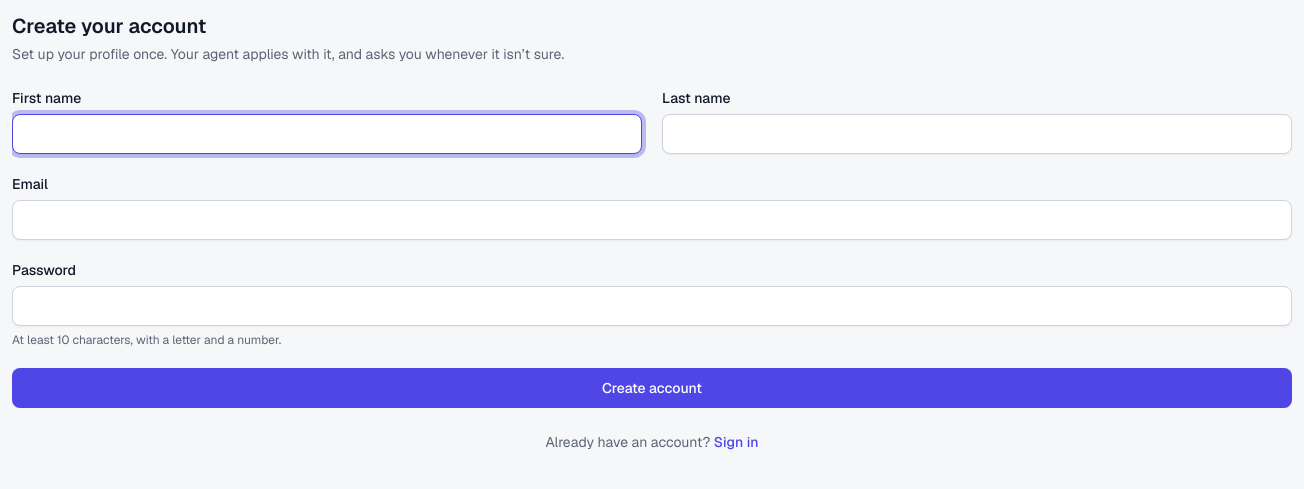
RegisterForm › shows a taken email on the email field
In the field labelled "First name": {"x": 327, "y": 134} [12,114,642,154], type "Ada"
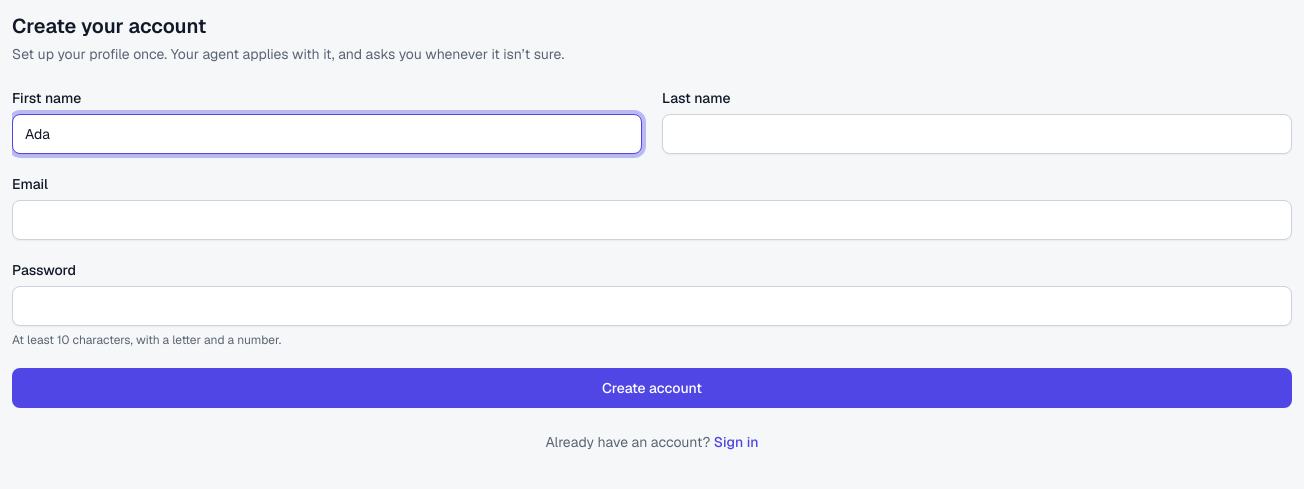
In the field labelled "Last name": {"x": 977, "y": 134} [662,114,1292,154], type "Lovelace"
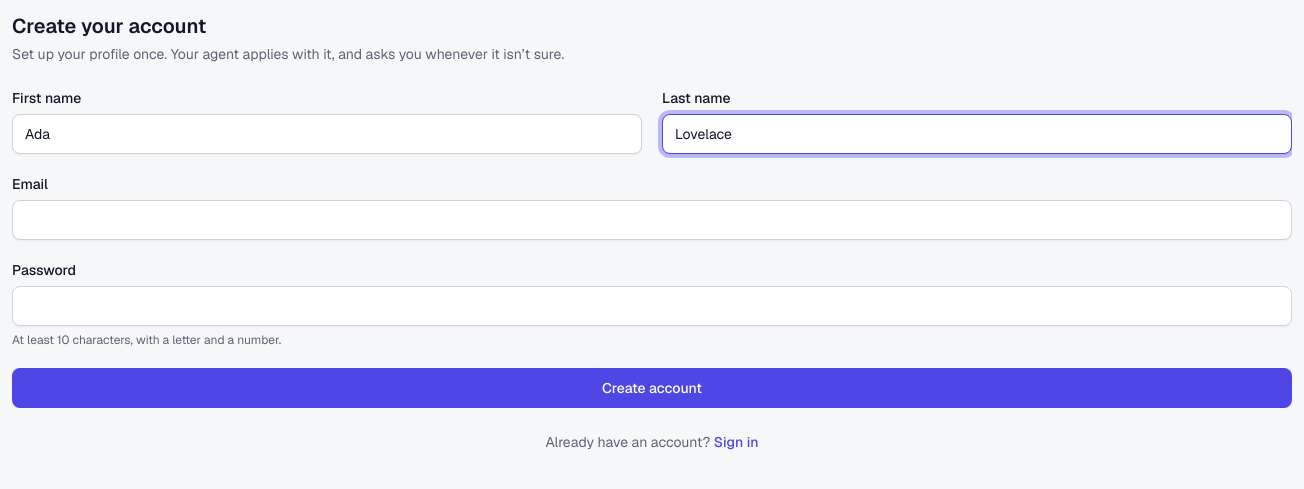
In the field labelled "Email": {"x": 652, "y": 220} [12,200,1292,240], type "ada@example.com"
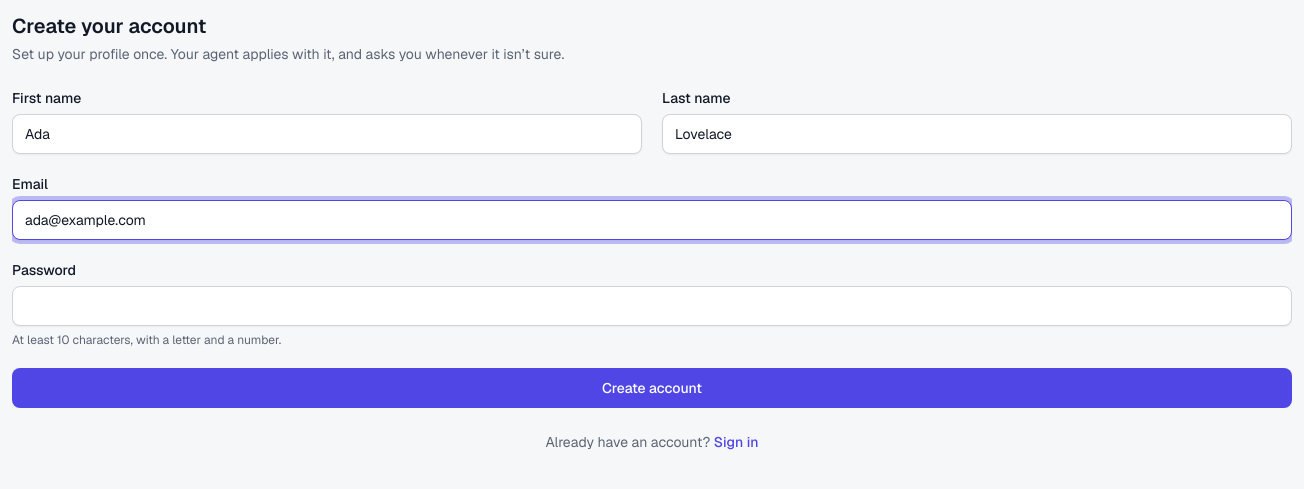
In the password field labelled "Password": {"x": 652, "y": 306} [12,286,1292,326], type "correct-horse-42"
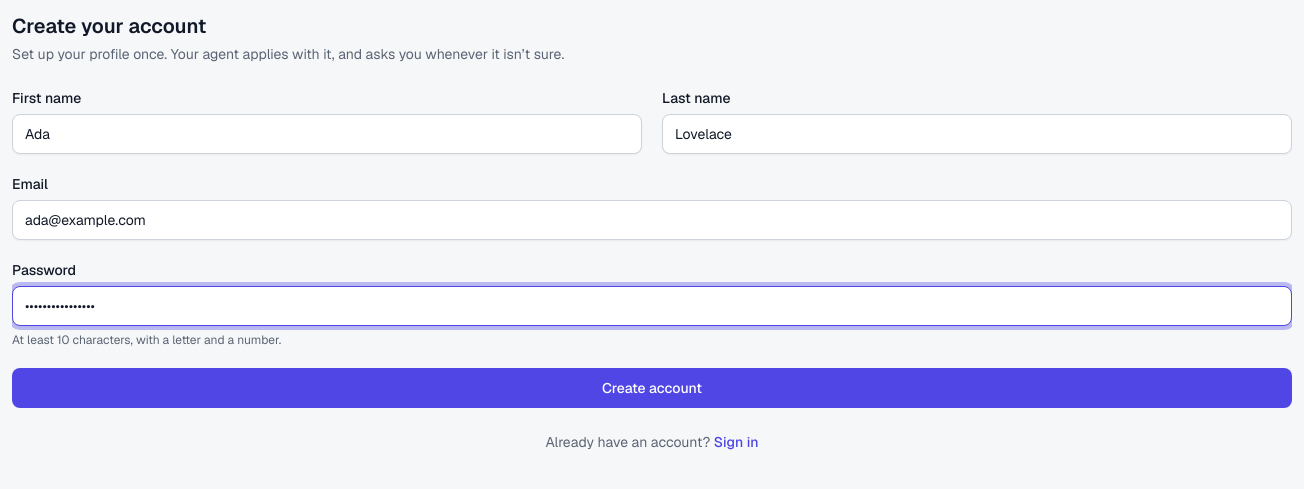
Click the button "Create account": {"x": 652, "y": 388} [12,368,1292,408]
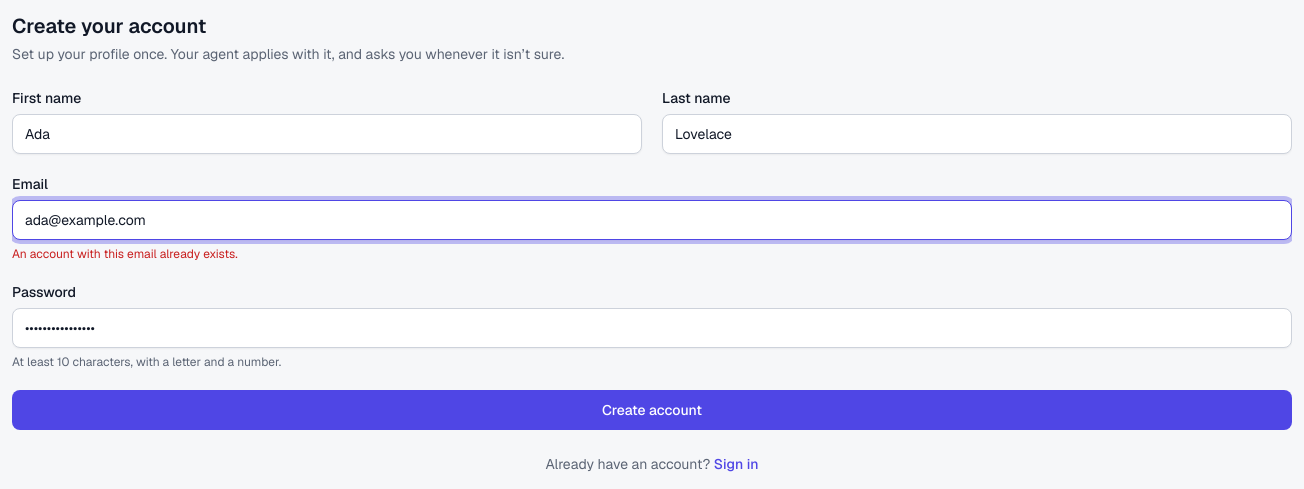
Result: the text "An account with this email already exists." is shown at [12,246,238,262]
